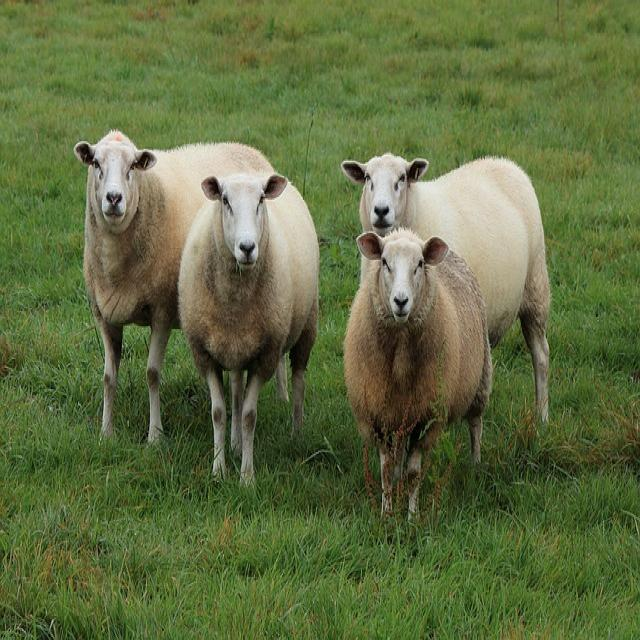goat: (74, 130, 271, 442), (341, 154, 550, 422), (179, 173, 319, 484), (344, 229, 492, 515)
